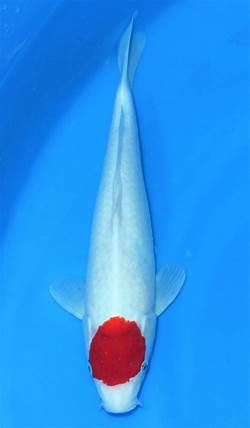sun: (47, 10, 187, 415)
